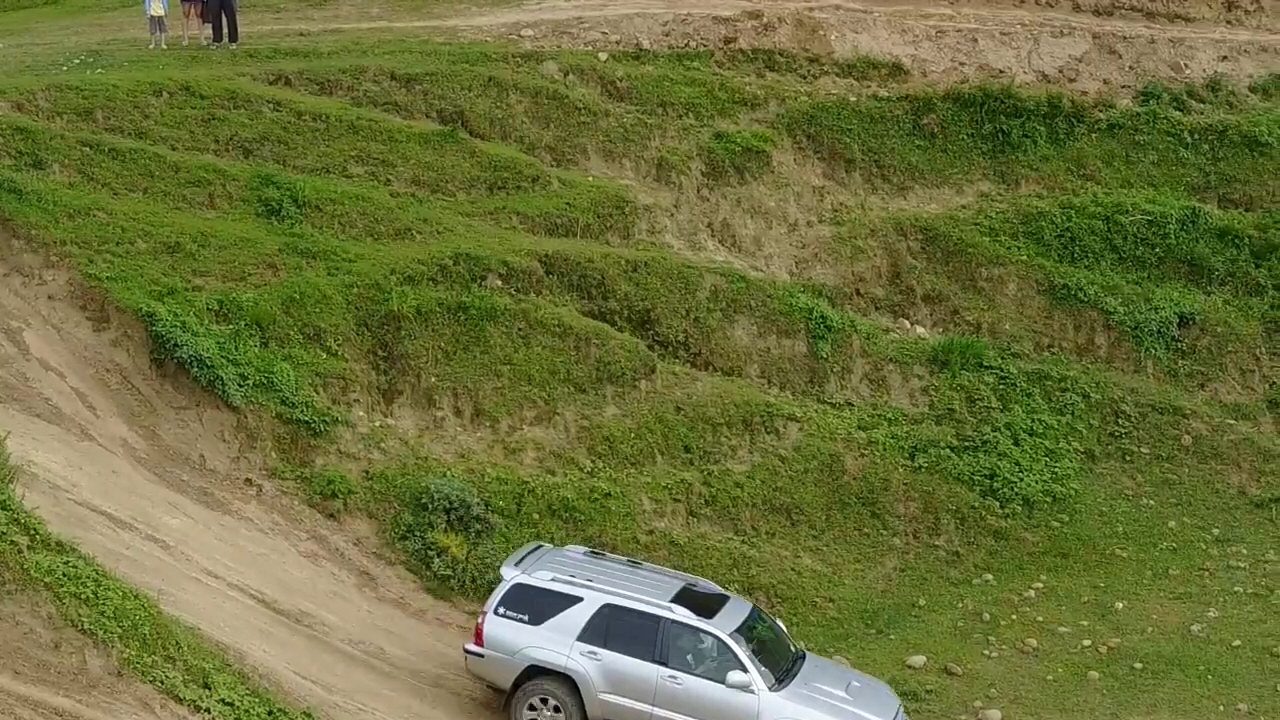araba: (461, 540, 910, 720)
insan: (176, 1, 209, 54), (209, 1, 234, 61), (146, 1, 171, 55)
